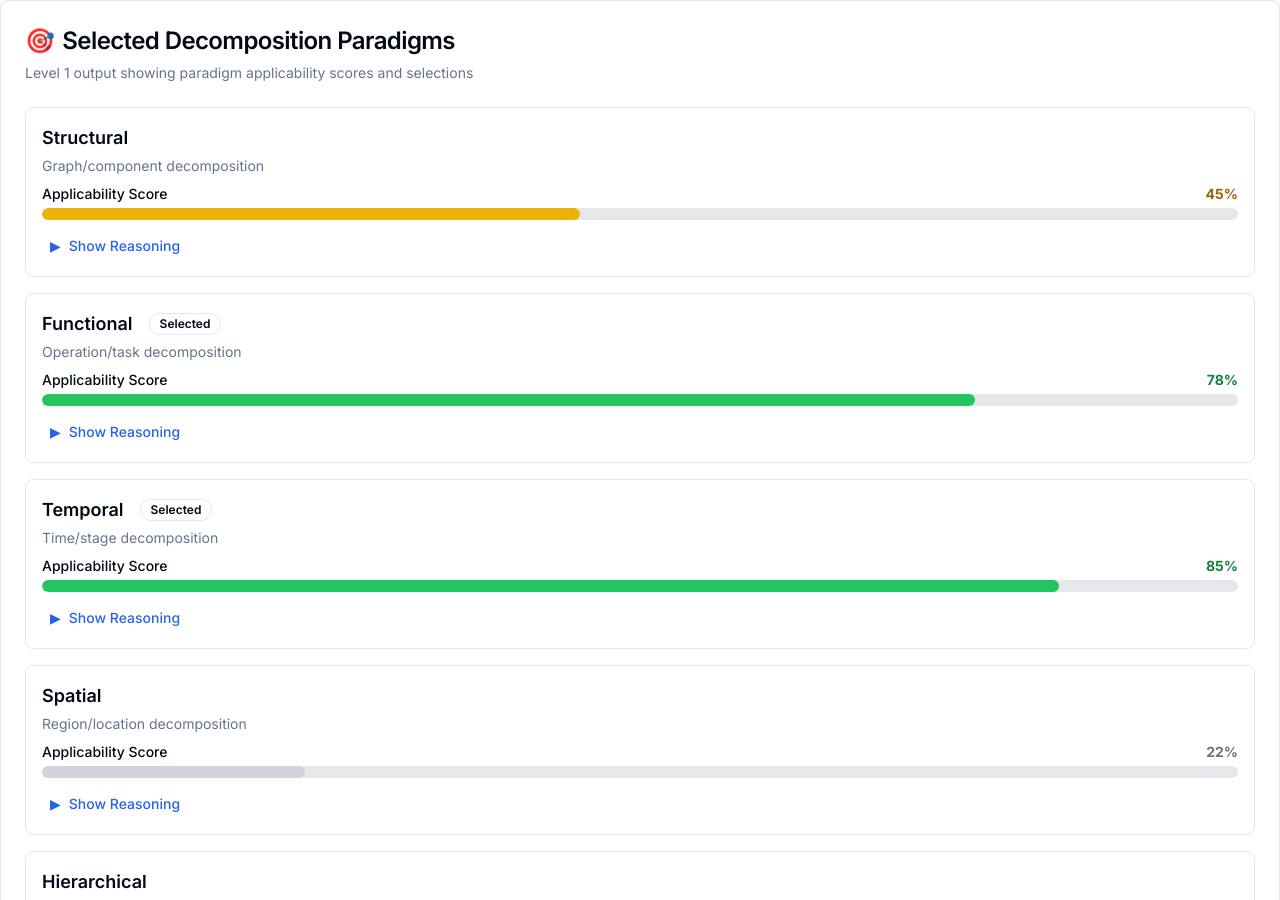
ParadigmSelectionViz › Reasoning Display › hides reasoning when "Hide Reasoning" button is clicked
This screenshot has width=1280, height=900.
Click the button "▶ Show Reasoning" below "Graph/component decomposition" at coordinates (115, 246), box [42,232,188,260]
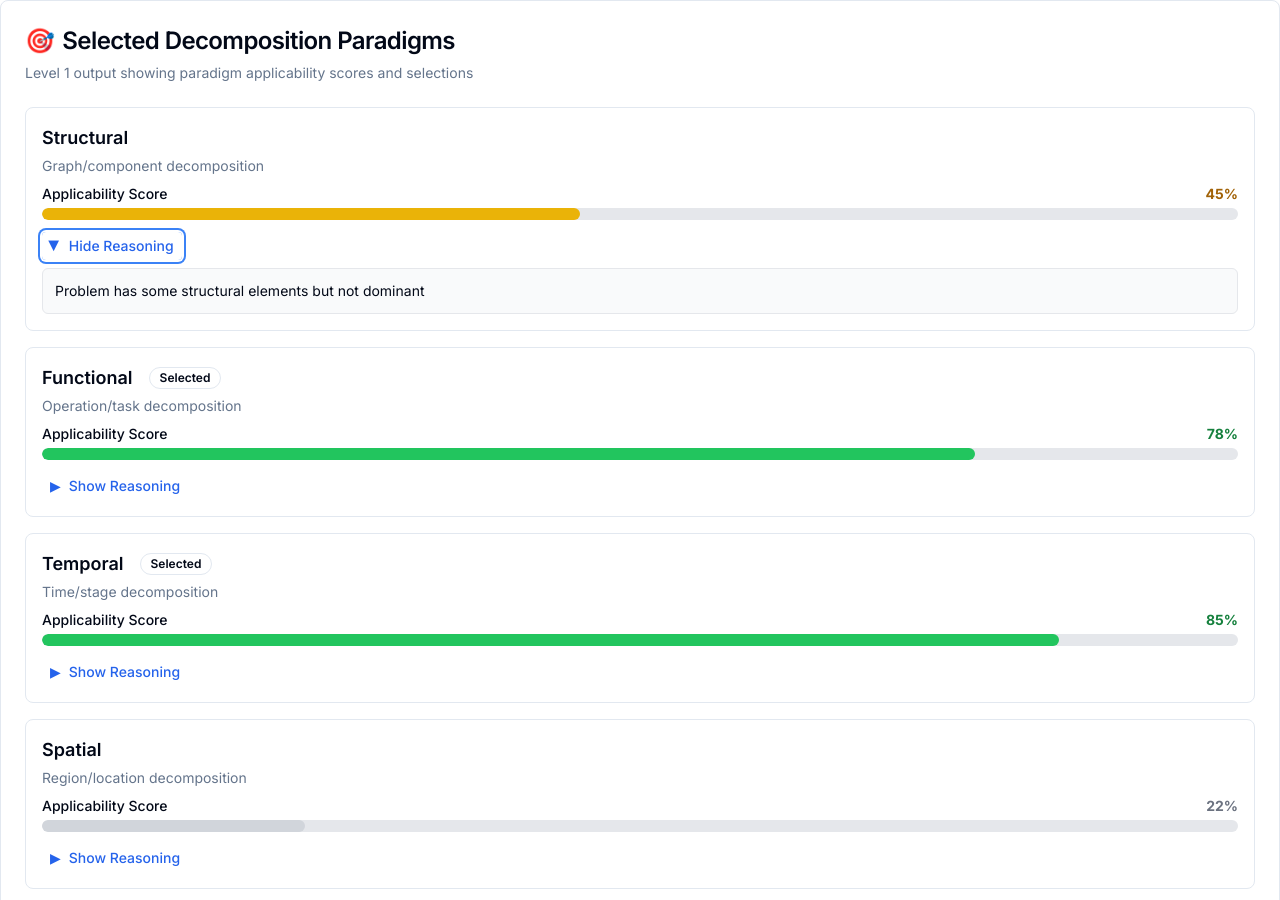
Click the button "▶ Hide Reasoning" at coordinates (112, 246), box [42,232,182,260]
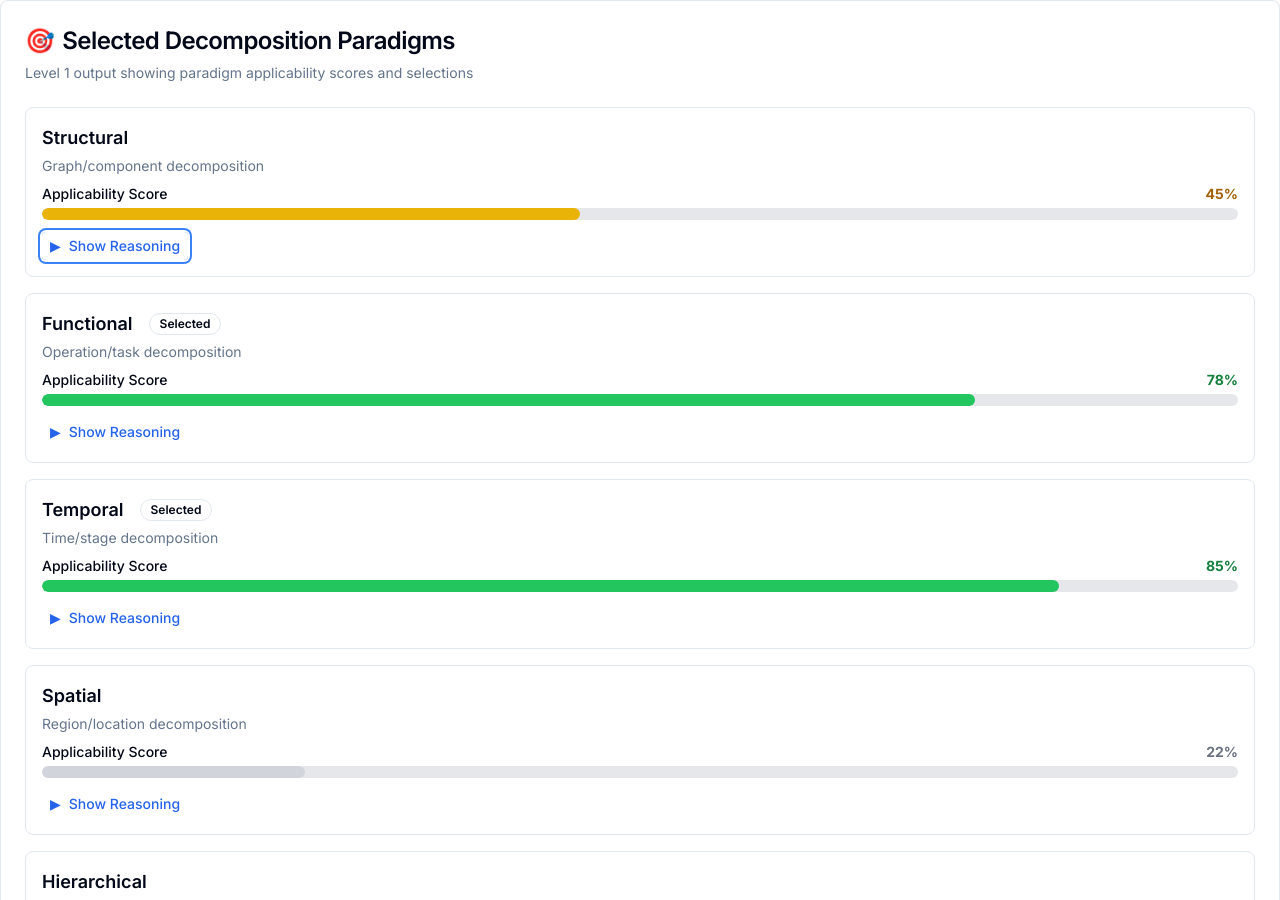
Result: the text "Problem has some structural elements" is gone
